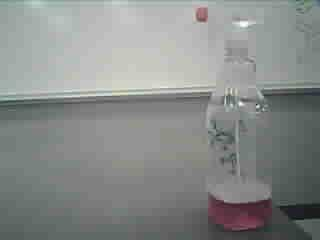hazard: (192, 0, 282, 233)
